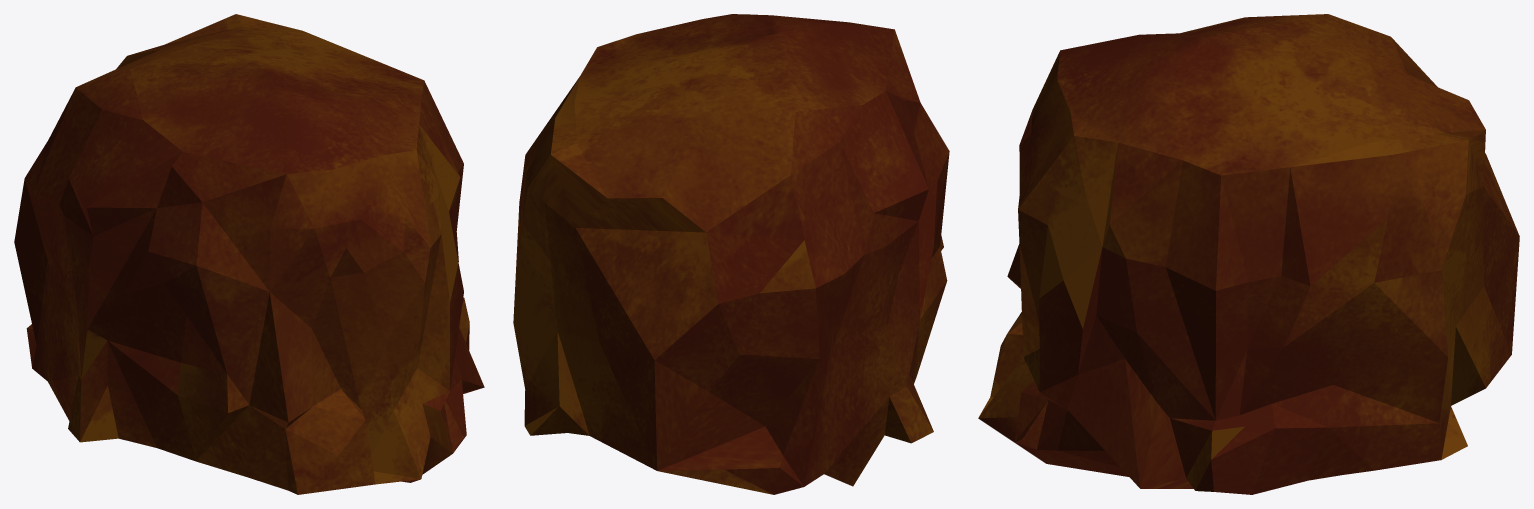
File: roche2.fbx
3 renders of one model, left to right at view 1: azimuth 30°, elevation 25°; view 2: azimuth 150°, elevation 25°; view 3: azimuth 270°, elevation 25°, orthographic. The views are drawn at different scales.
Parts seen in each view (by area): view 1: Ardanuy_Jette_Minji_TP1:Dague_combine; view 2: Ardanuy_Jette_Minji_TP1:Dague_combine; view 3: Ardanuy_Jette_Minji_TP1:Dague_combine.
Boxes of the visible parts, box(x1,y1,x2,y2) form: Ardanuy_Jette_Minji_TP1:Dague_combine: box(14, 14, 484, 494); Ardanuy_Jette_Minji_TP1:Dague_combine: box(513, 14, 949, 494); Ardanuy_Jette_Minji_TP1:Dague_combine: box(978, 14, 1519, 494).
Bounding box in the file's own units: 3.45 × 3.22 × 4.05.
